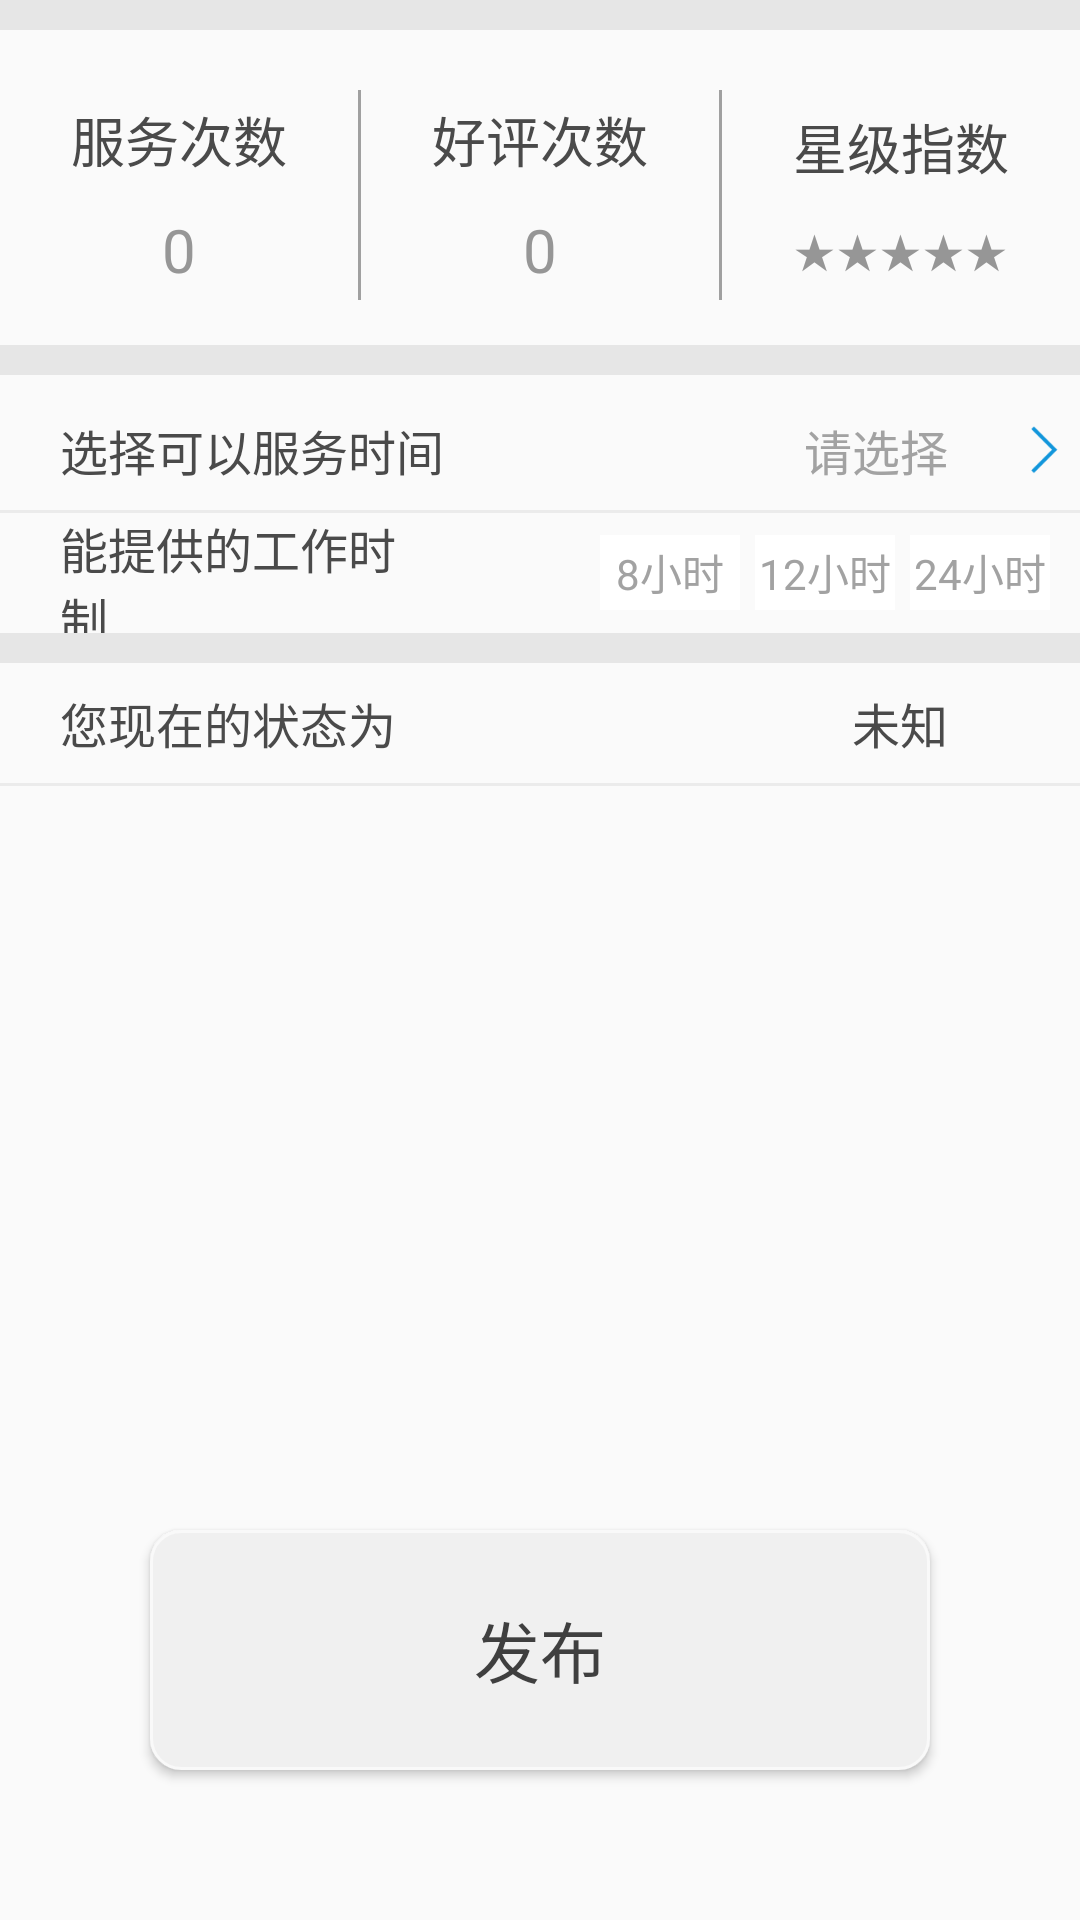

Icon bounding boxes for this 1080*1920 phone screenshot, format (x1, y1, x2, y2):
right: (1031, 426, 1058, 473)
